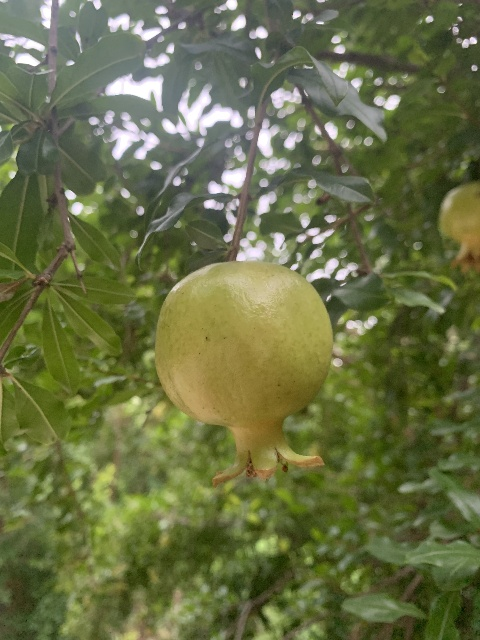mid-growth: (153, 261, 333, 487), (437, 181, 480, 274)
